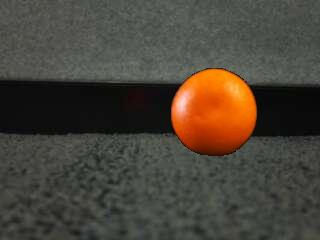Orange: (170, 68, 257, 157)
